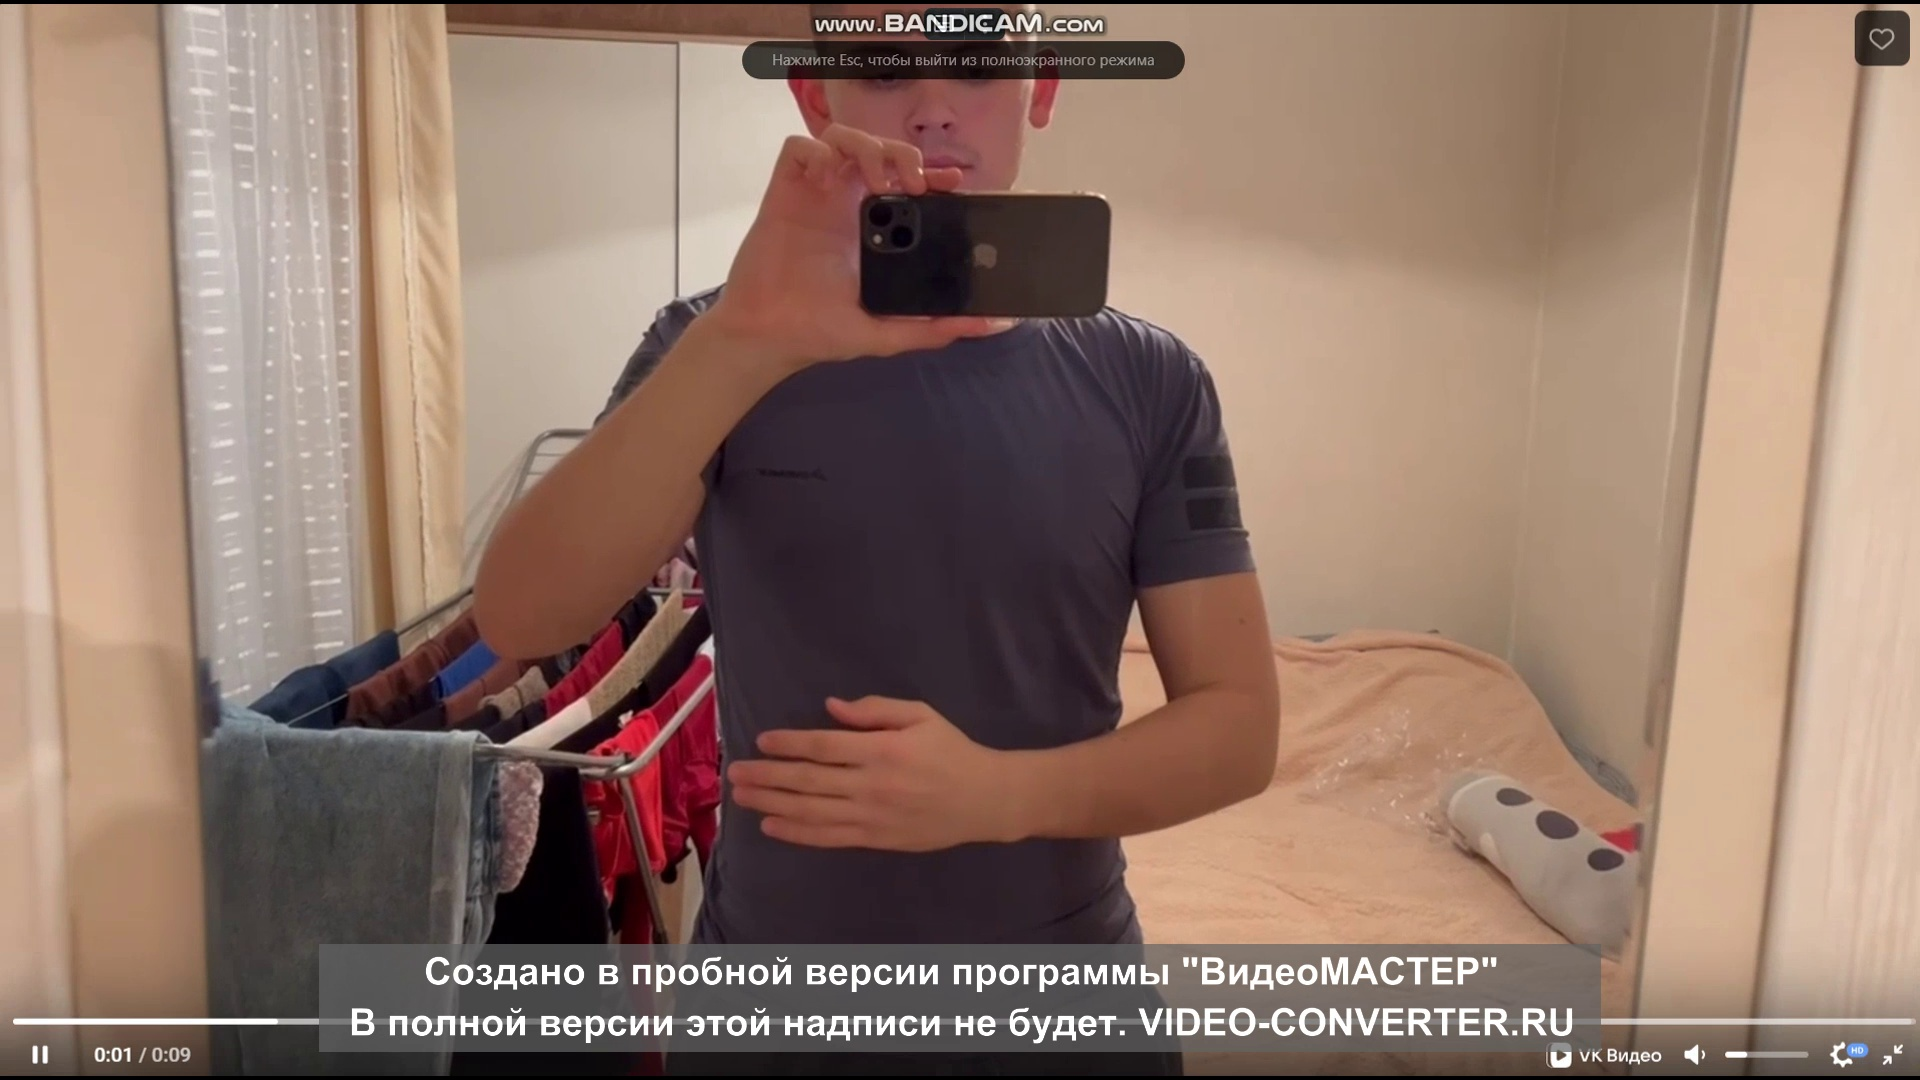Кисть: (721, 691, 977, 857)
